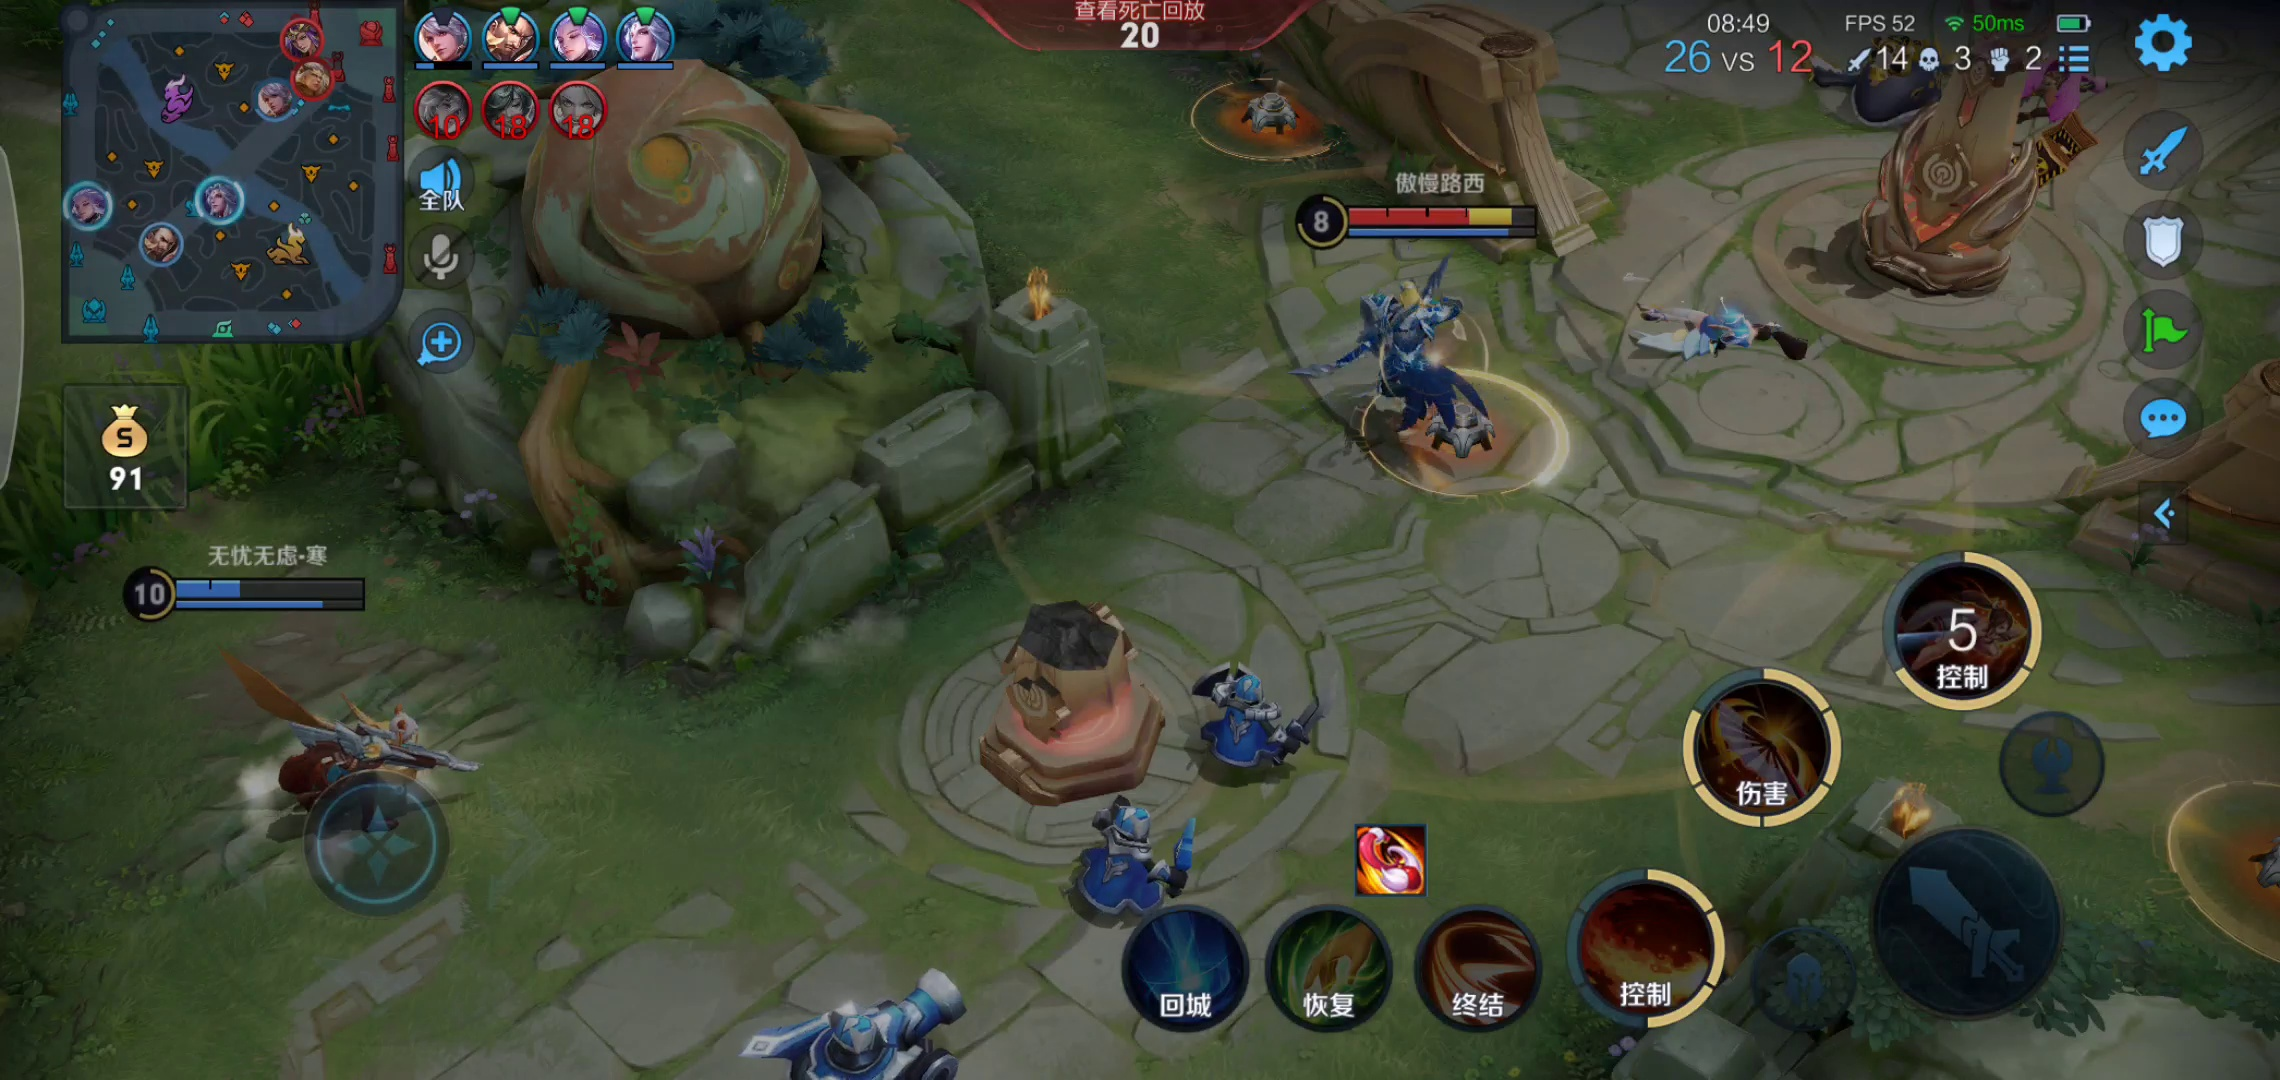grass: (1, 331, 390, 528)
hero: (222, 673, 457, 845), (1322, 272, 1490, 467), (2023, 22, 2110, 180)
soldier: (737, 970, 1009, 1080), (1045, 789, 1220, 924), (1187, 660, 1314, 781)
tower: (1898, 17, 2044, 308), (973, 597, 1187, 792)
